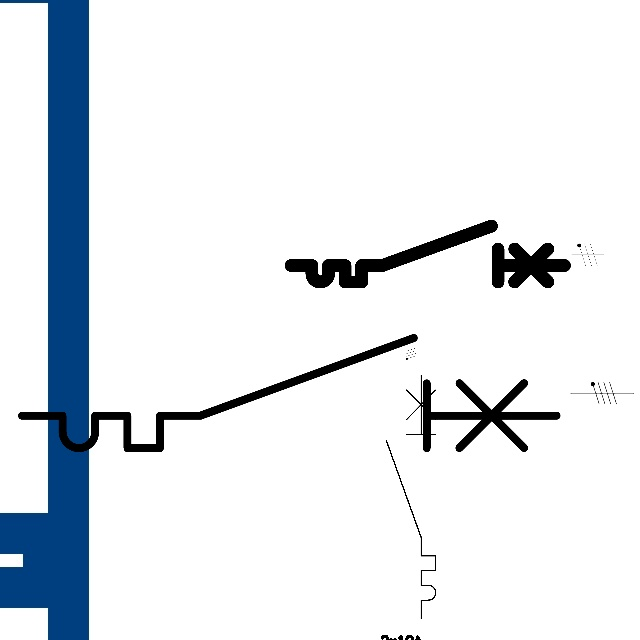interruptor_termomagnetico: (8, 324, 570, 462), (284, 219, 571, 289), (380, 368, 442, 624)
